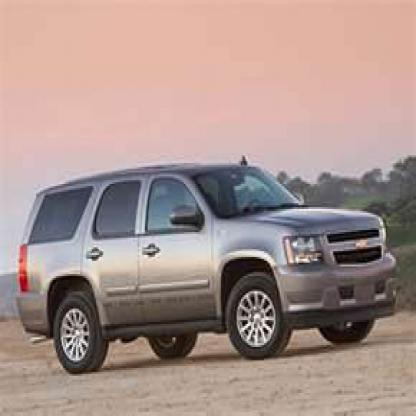Vehicle: (17, 156, 402, 361)
